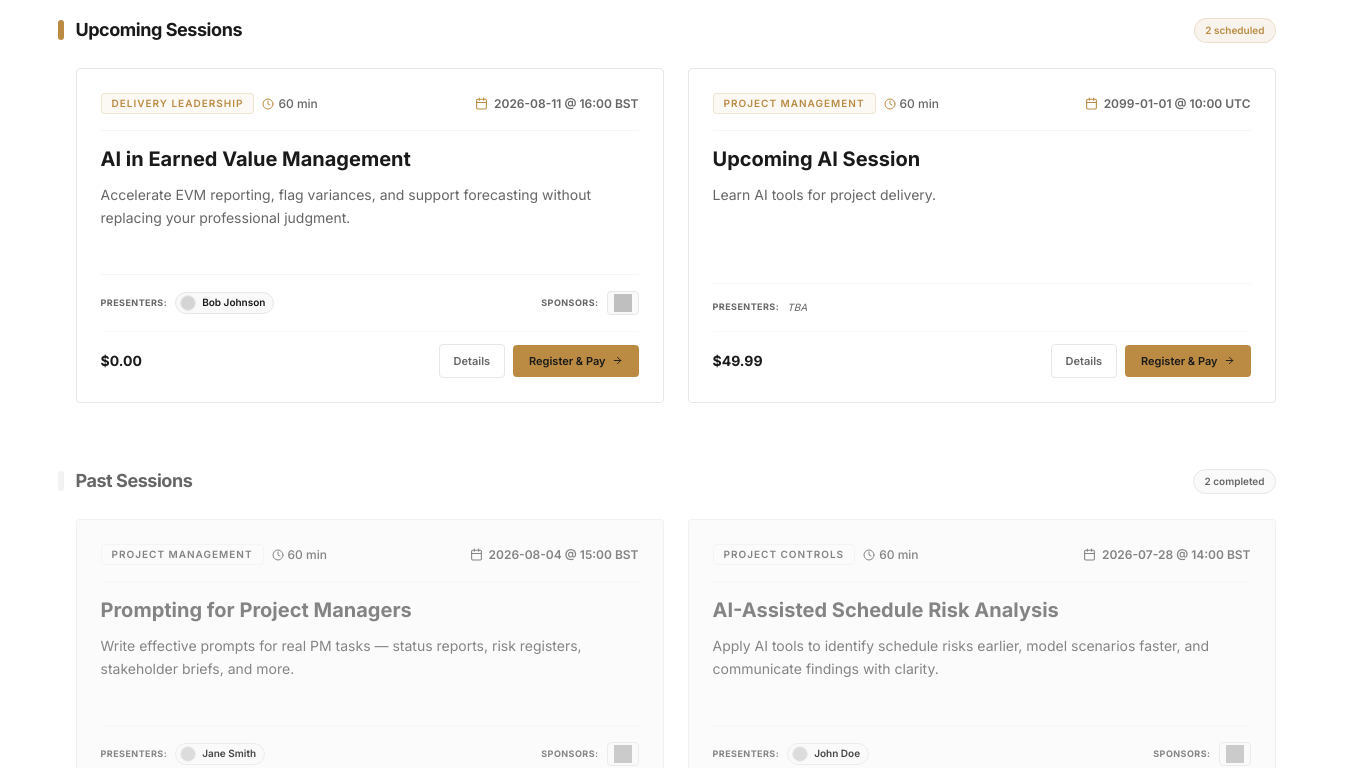
Test case: SessionsList Pricing Display › renders live registration price for upcoming paid sessions inside modal
# Open session modal by clicking title
Step 1. Click the button "Upcoming AI Session" → (816, 160), box [712,147,920,172]
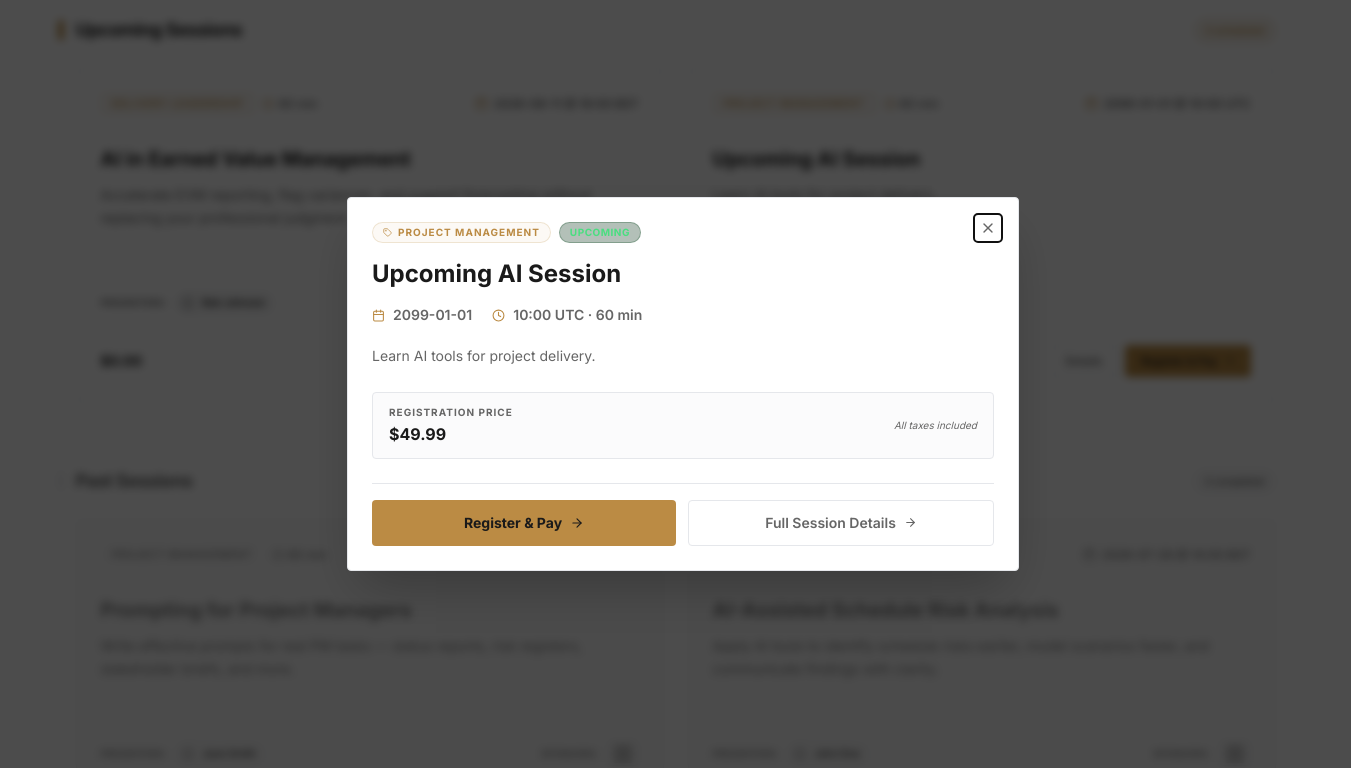
Result: the text "Registration Price" is shown at [389,405,513,420]
Result: the text "$49.99" is shown at [389,424,446,444]
Result: the text "All taxes included" is shown at [894,418,977,433]
